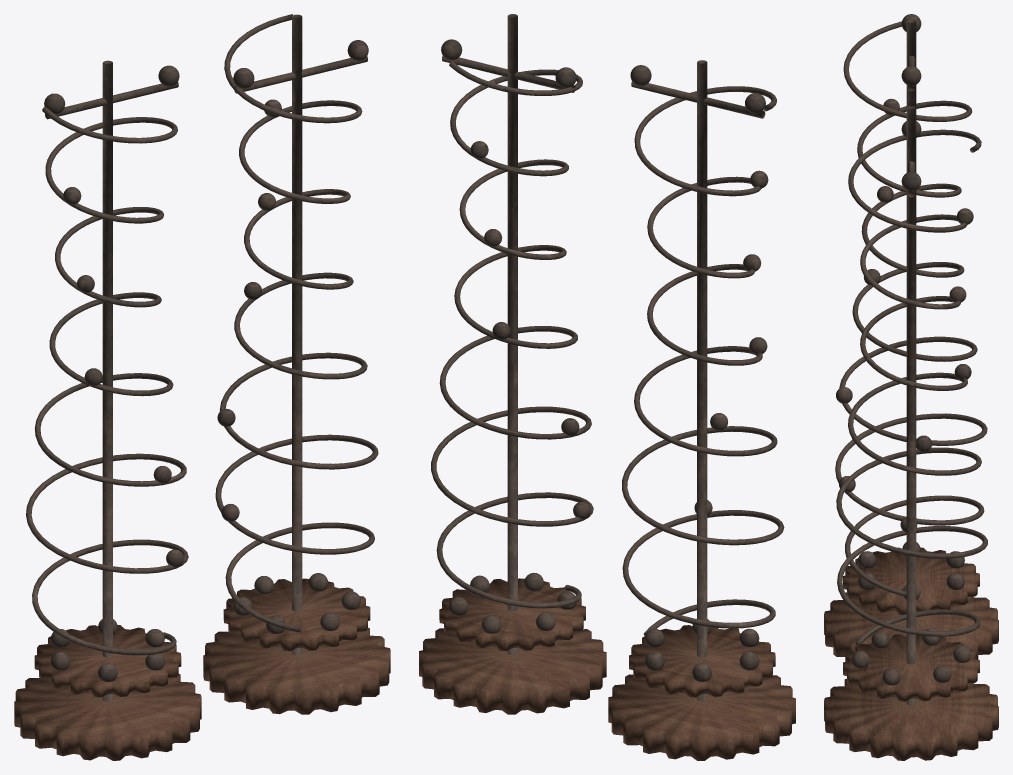
File: escultura-esc-041.glb
The picture shows the model from 3 angles, left to right: view 1: azimuth 30°, elevation 25°; view 2: azimuth 150°, elevation 25°; view 3: azimuth 270°, elevation 25°; orthographic projection. The views are drawn at different scales.
Parts seen in each view (by area): view 1: world; view 2: world; view 3: world.
Part boxes in pixels (x1,y1,x2,y2): world: (14, 14, 390, 760); world: (419, 14, 795, 760); world: (824, 14, 998, 760).
Size of the model in its own units: 0.6864 by 1.23 by 0.3165.
Materials: 1 (1 with a texture image).
